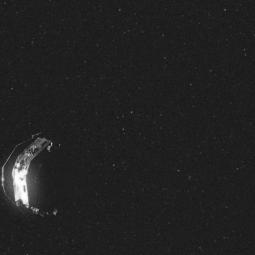lisa_pathfinder: (0, 122, 81, 228)
